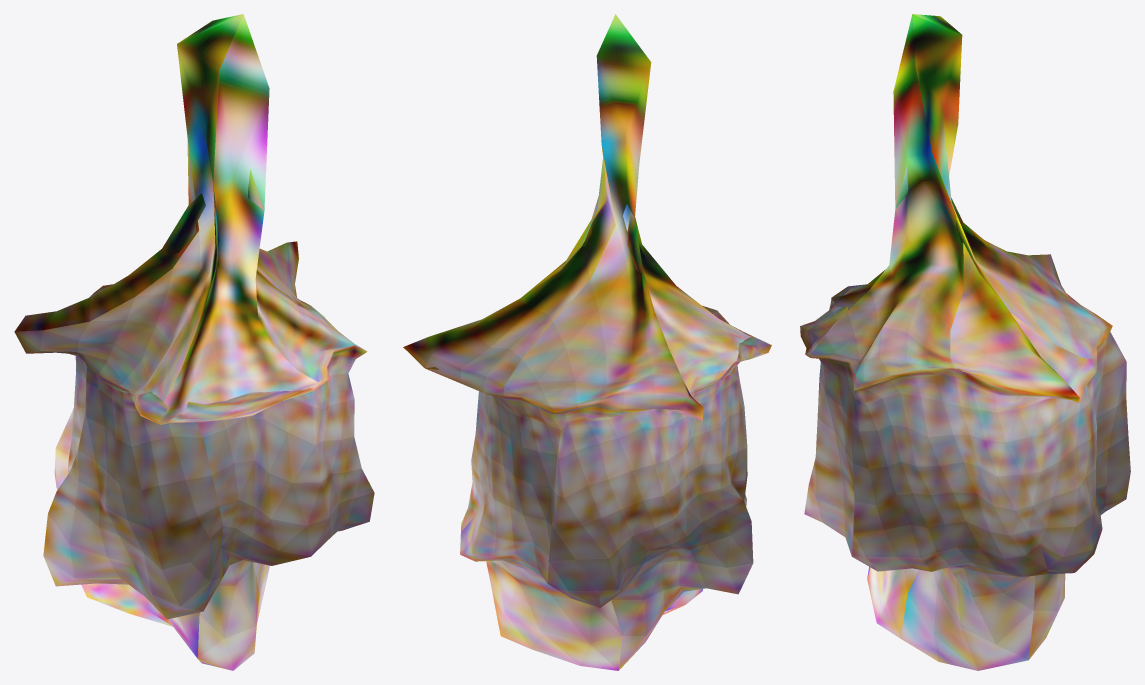
The picture shows the model from 3 angles, left to right: view 1: azimuth 30°, elevation 25°; view 2: azimuth 150°, elevation 25°; view 3: azimuth 270°, elevation 25°; orthographic projection. The views are drawn at different scales.
Parts seen in each view (by area): view 1: pMesh1; view 2: pMesh1; view 3: pMesh1.
Boxes of the visible parts, bbox=[...] form: pMesh1: bbox=[14, 14, 374, 670]; pMesh1: bbox=[403, 14, 771, 670]; pMesh1: bbox=[800, 14, 1130, 670].
Bounding box in the file's own units: 2.5 × 5.02 × 2.34.
1 material, 1 textured.
